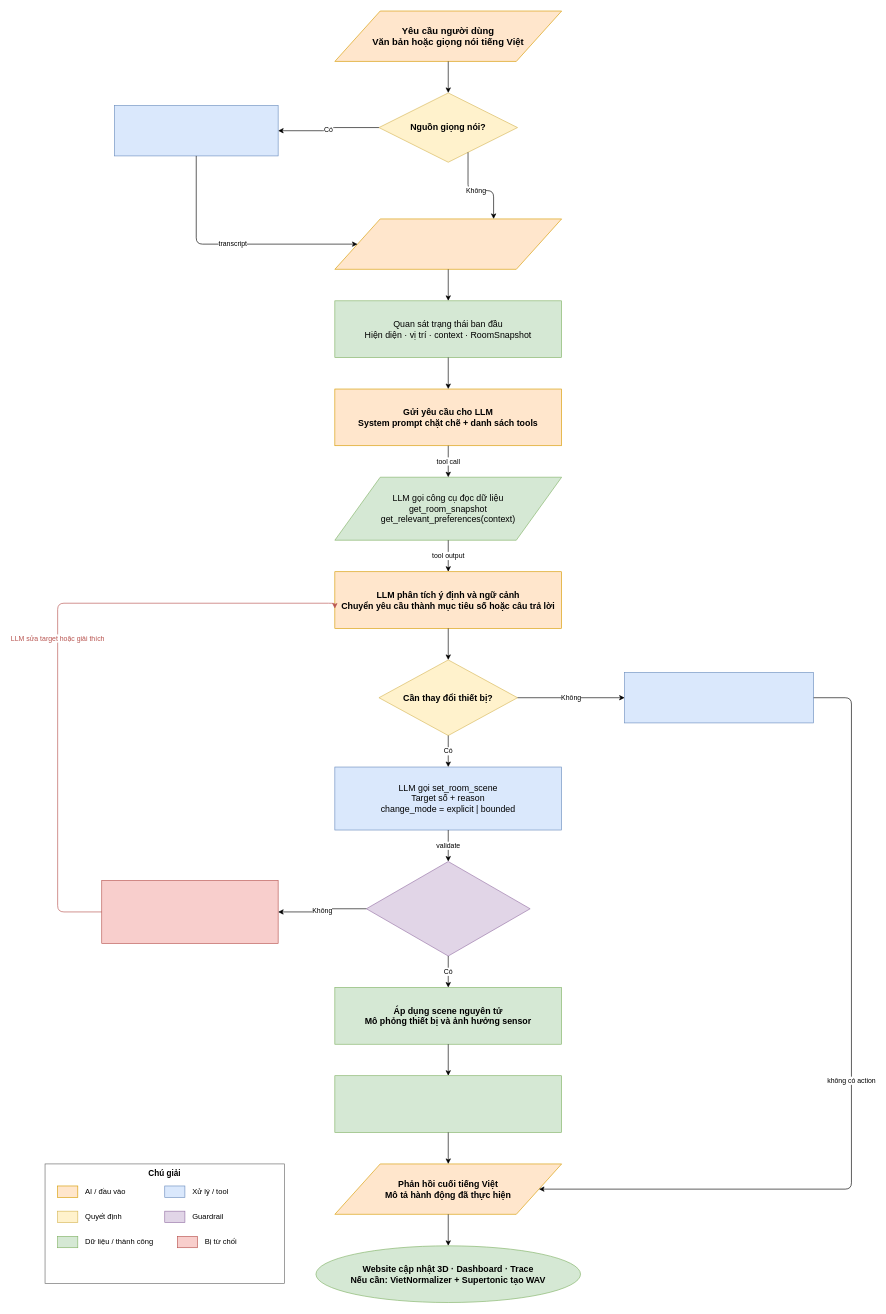
This 886x1314 diagram has some shape labels left out. The centre of each missing label's shape, as x and y in pixels:
"ASR tiếng Việt faster-whisper + VAD + từ vựng app" goes at (196,130).
"Guardrail hợp lệ? Schema · khoảng giá trị · mức đổi Xung đột AC / cửa sổ" goes at (448,908).
"Lưu SQLite và phát SSE Action · conversation · trace · snapshot" goes at (448,1103).
"Trả lời hội thoại hoặc khuyến nghị Không tạo device action" goes at (719,697).
"Từ chối toàn bộ scene Không thay đổi trạng thái Trả lỗi tool có cấu trúc" goes at (189,911).
"Yêu cầu văn bản đã chuẩn hóa Tạo request_id và trace" goes at (448,243).
